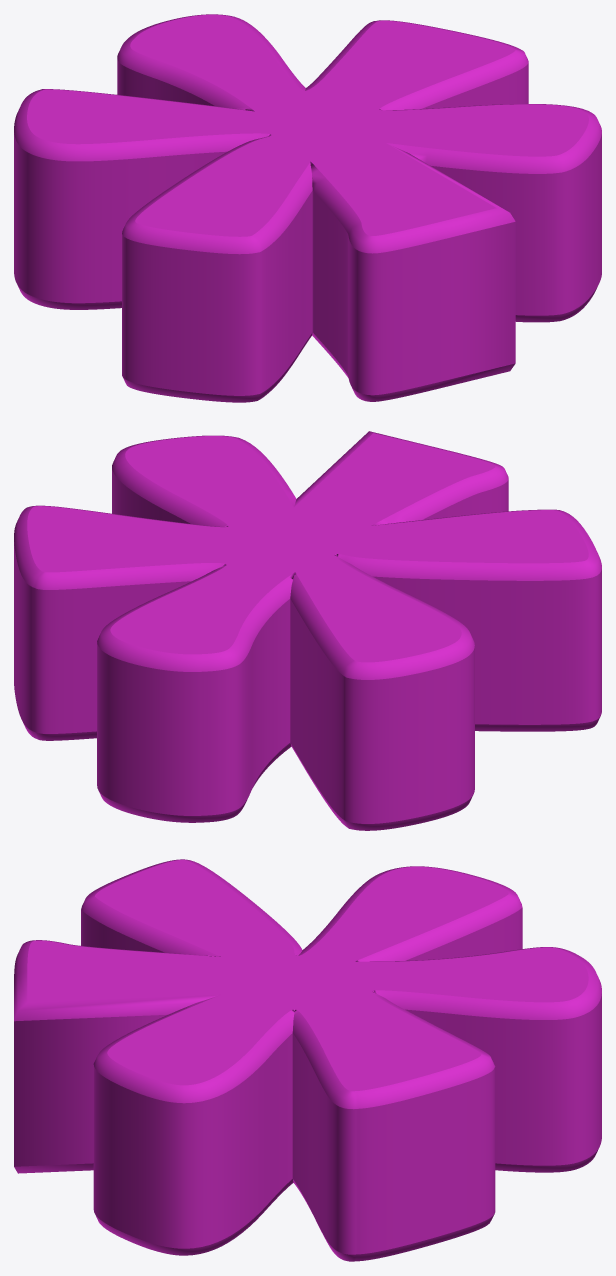
Rendered from Asterisk.fbx.
3 views of the same model, one above another, from view 1: azimuth 30°, elevation 25°; view 2: azimuth 150°, elevation 25°; view 3: azimuth 270°, elevation 25° (orthographic). The views are drawn at different scales.
Visible parts, largest first — view 1: Asterisk; view 2: Asterisk; view 3: Asterisk.
Boxes of the visible parts, <box> form: Asterisk: <box>14,14,601,402</box>; Asterisk: <box>14,431,601,830</box>; Asterisk: <box>14,859,601,1261</box>.
Size of the model in its own units: 0.4295 by 0.14 by 0.4393.
